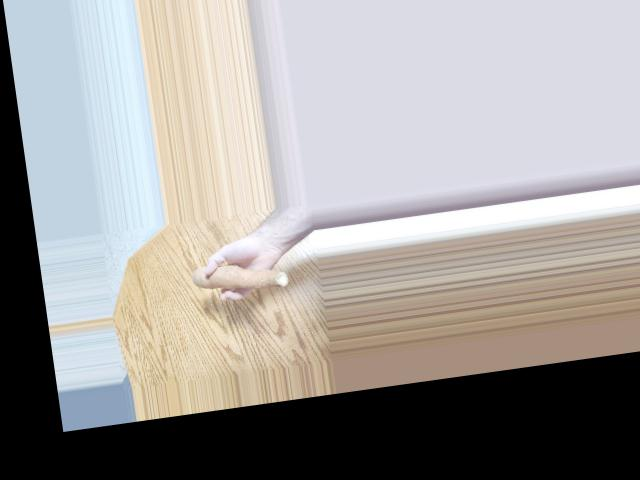sweet_potato: (192, 255, 286, 295)
